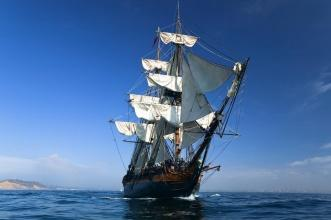fanchuan: (110, 6, 249, 197)
